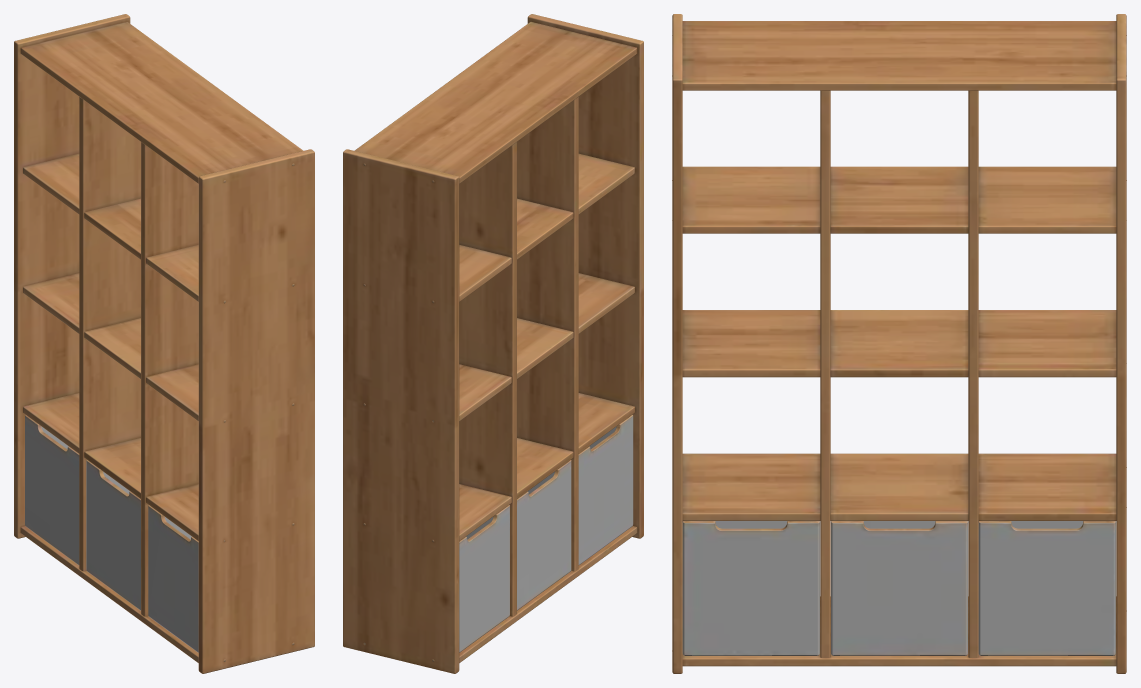
File: wooden_display_shelves_01.glb
3 views of the same model, side by side, from view 1: azimuth 30°, elevation 25°; view 2: azimuth 150°, elevation 25°; view 3: azimuth 270°, elevation 25° (orthographic). The views are drawn at different scales.
Visible parts, largest first — view 1: wooden_display_shelves_01; view 2: wooden_display_shelves_01; view 3: wooden_display_shelves_01.
Boxes of the visible parts, x1=… form: wooden_display_shelves_01: x1=14, y1=14, x2=314, y2=673; wooden_display_shelves_01: x1=343, y1=14, x2=643, y2=673; wooden_display_shelves_01: x1=672, y1=14, x2=1126, y2=673.
Size of the model in its own units: 0.3714 by 1.56 by 1.08.
1 material, 1 textured.
